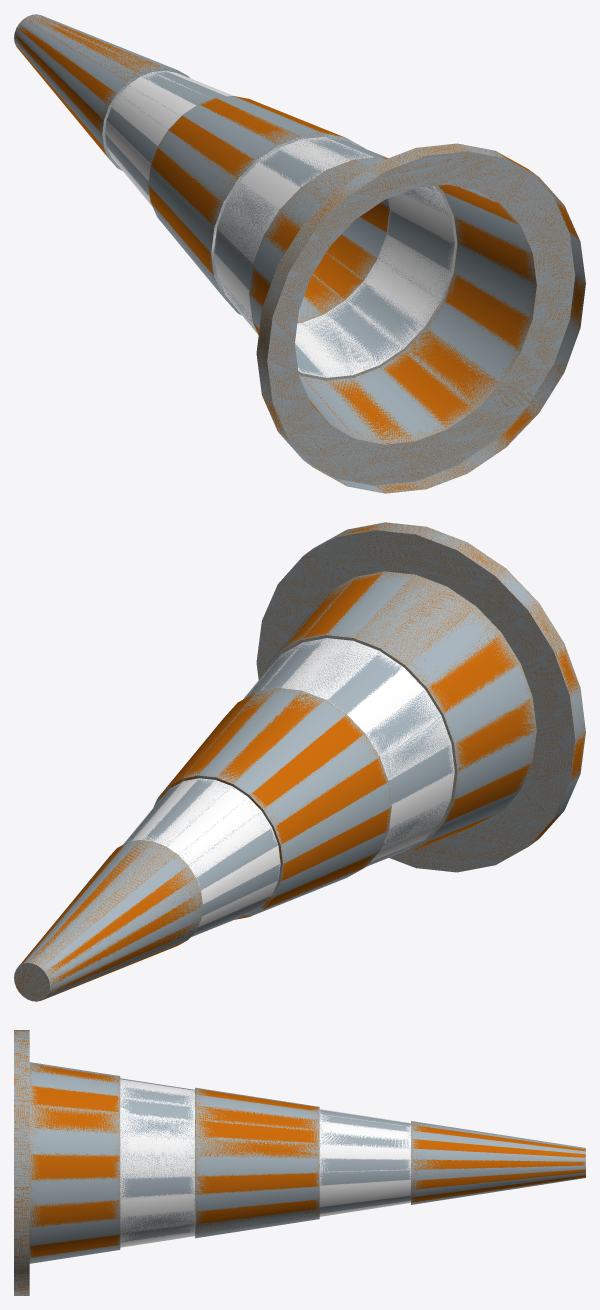
3 views of the same model, one above another, from view 1: azimuth 30°, elevation 25°; view 2: azimuth 150°, elevation 25°; view 3: azimuth 270°, elevation 25° (orthographic). The views are drawn at different scales.
Visible parts, largest first — view 1: Model; view 2: Model; view 3: Model.
Part boxes in pixels (bbox=[...]): Model: bbox=[14, 14, 585, 493]; Model: bbox=[14, 522, 585, 1001]; Model: bbox=[14, 1030, 585, 1295].
Size of the model in its own units: 28.53 by 28.53 by 61.16.
